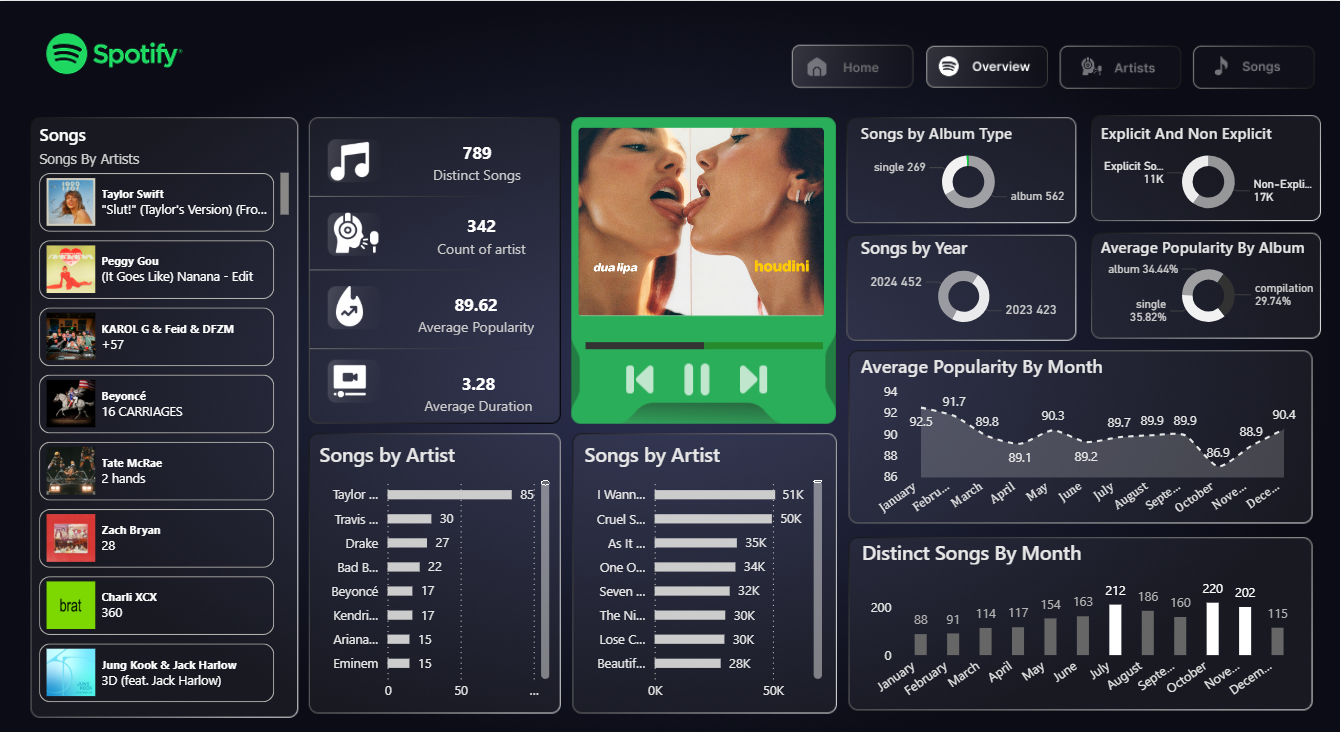

What the dashboard file says about the page in this screenshot:
{"tool":"powerbi","page":{"name":"Page 1","canvas":[1280,720],"ordinal":0},"visuals":[{"type":"clusteredBarChart","title":"Songs by Artist","fields":{"Y":["_Measures.Distinct Songs"],"Category":["Top-50-World.artist"]},"box":[301.6,418.6,229.2,255.8],"z":0},{"type":"clusteredBarChart","title":"Songs by Artist","fields":{"Category":["Top-50-World.song"],"Y":["Sum(Top-50-World.popularity)"]},"box":[553.8,418.6,236.5,255.8],"z":1000},{"type":"areaChart","title":"Average Popularity By Month","fields":{"Y":["_Measures.Avg Popularity"],"Category":["Top-50-World.date.Variation.Date Hierarchy.Month"]},"box":[816.3,335.9,425.9,162.3],"z":2000},{"type":"donutChart","title":"Songs by Album Type","fields":{"Y":["_Measures.Distinct Songs"],"Category":["Top-50-World.album_type"]},"box":[816.3,115.3,215.5,93.8],"z":3000},{"type":"donutChart","title":"Explicit And Non Explicit","fields":{"Y":["_Measures.Non-Explicit Songs","_Measures.Explicit Songs"]},"box":[1045.8,115.3,215.5,93.8],"z":4000},{"type":"donutChart","title":"Songs by Year","fields":{"Category":["Top-50-World.date.Variation.Date Hierarchy.Year"],"Y":["_Measures.Distinct Songs"]},"box":[816.3,224.4,206.6,93.8],"z":5000},{"type":"donutChart","title":"Average Popularity By Album","fields":{"Category":["Top-50-World.album_type"],"Y":["_Measures.Avg Popularity"]},"box":[1045.8,224.4,215.5,93.8],"z":6000},{"type":"clusteredColumnChart","title":"Distinct Songs By Month","fields":{"Y":["_Measures.Distinct Songs"],"Category":["Top-50-World.date.Variation.Date Hierarchy.Month"]},"box":[817.6,512.1,424.6,162.3],"z":7000},{"type":"cardVisual","title":"Distinct Songs By Month","fields":{"Data":["_Measures.Distinct Songs"]},"box":[366.3,115.3,180,76.1],"z":8000},{"type":"cardVisual","title":"Distinct Songs By Month","fields":{"Data":["Count(Top-50-World.artist)"]},"box":[375.2,185.1,171.1,77.3],"z":9000},{"type":"cardVisual","title":"Distinct Songs By Month","fields":{"Data":["_Measures.Avg Duration Minutes"]},"box":[368.9,335.9,177.5,74.8],"z":10000},{"type":"cardVisual","title":"Distinct Songs By Month","fields":{"Data":["_Measures.Avg Popularity"]},"box":[363.8,262.4,182.5,73.5],"z":11000},{"type":"image","box":[318.2,271.3,45.6,38],"z":12000},{"type":"image","box":[316.9,341,36.8,43.1],"z":13000},{"type":"image","box":[316.9,124.2,36.8,57],"z":14000},{"type":"image","box":[311.8,200.3,58.3,41.8],"z":15000},{"type":"advancedSlicerVisual","title":"Songs ","fields":{"Values":["Top-50-World.song"]},"box":[34.2,115.3,247.2,559],"z":16000},{"type":"cardVisual","fields":{"Data":["Min(Top-50-World.album_cover_url)"]},"box":[536.2,103.9,268.7,214.2],"z":17000},{"type":"barChart","fields":{"Y":["_Measures.Average  Popularity","Avg(Top-50-World.popularity)"]},"box":[555.2,290.3,262.4,69.7],"z":18000},{"type":"image","box":[645.2,344.8,40.6,30],"z":19000},{"type":"image","box":[702.2,344.8,34.2,30],"z":20000},{"type":"image","box":[594.5,344.8,34.2,30],"z":21000},{"type":"shape","box":[542.5,103.9,258.6,300.4],"z":22000}]}

Visuals, with their boxes in screenshot pixels (x1, y1, x2, y2), scaled from the page's 1280x720 canvas onto the 1340x732 screenshot:
"Songs by Artist" clusteredBarChart: l=316, t=426, r=556, b=686
"Songs by Artist" clusteredBarChart: l=580, t=426, r=827, b=686
"Average Popularity By Month" areaChart: l=855, t=341, r=1300, b=507
"Songs by Album Type" donutChart: l=855, t=117, r=1080, b=213
"Explicit And Non Explicit" donutChart: l=1095, t=117, r=1320, b=213
"Songs by Year" donutChart: l=855, t=228, r=1071, b=324
"Average Popularity By Album" donutChart: l=1095, t=228, r=1320, b=324
"Distinct Songs By Month" clusteredColumnChart: l=856, t=521, r=1300, b=686
"Distinct Songs By Month" cardVisual: l=383, t=117, r=572, b=195
"Distinct Songs By Month" cardVisual: l=393, t=188, r=572, b=267
"Distinct Songs By Month" cardVisual: l=386, t=341, r=572, b=418
"Distinct Songs By Month" cardVisual: l=381, t=267, r=572, b=341
image: l=333, t=276, r=381, b=314
image: l=332, t=347, r=370, b=391
image: l=332, t=126, r=370, b=184
image: l=326, t=204, r=387, b=246
"Songs " advancedSlicerVisual: l=36, t=117, r=295, b=686
cardVisual - Min(Top-50-World.album_cover_url): l=561, t=106, r=843, b=323
barChart - _Measures.Average  Popularity x Avg(Top-50-World.popularity): l=581, t=295, r=856, b=366
image: l=675, t=351, r=718, b=381
image: l=735, t=351, r=771, b=381
image: l=622, t=351, r=658, b=381
shape: l=568, t=106, r=839, b=411
